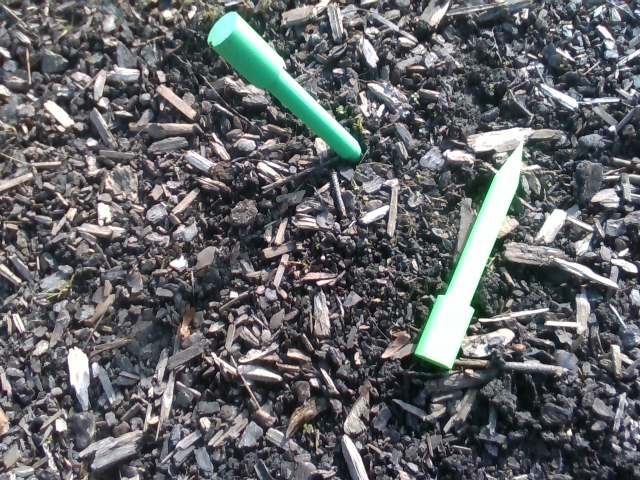Probe: (408, 130, 537, 378), (200, 6, 373, 169)
